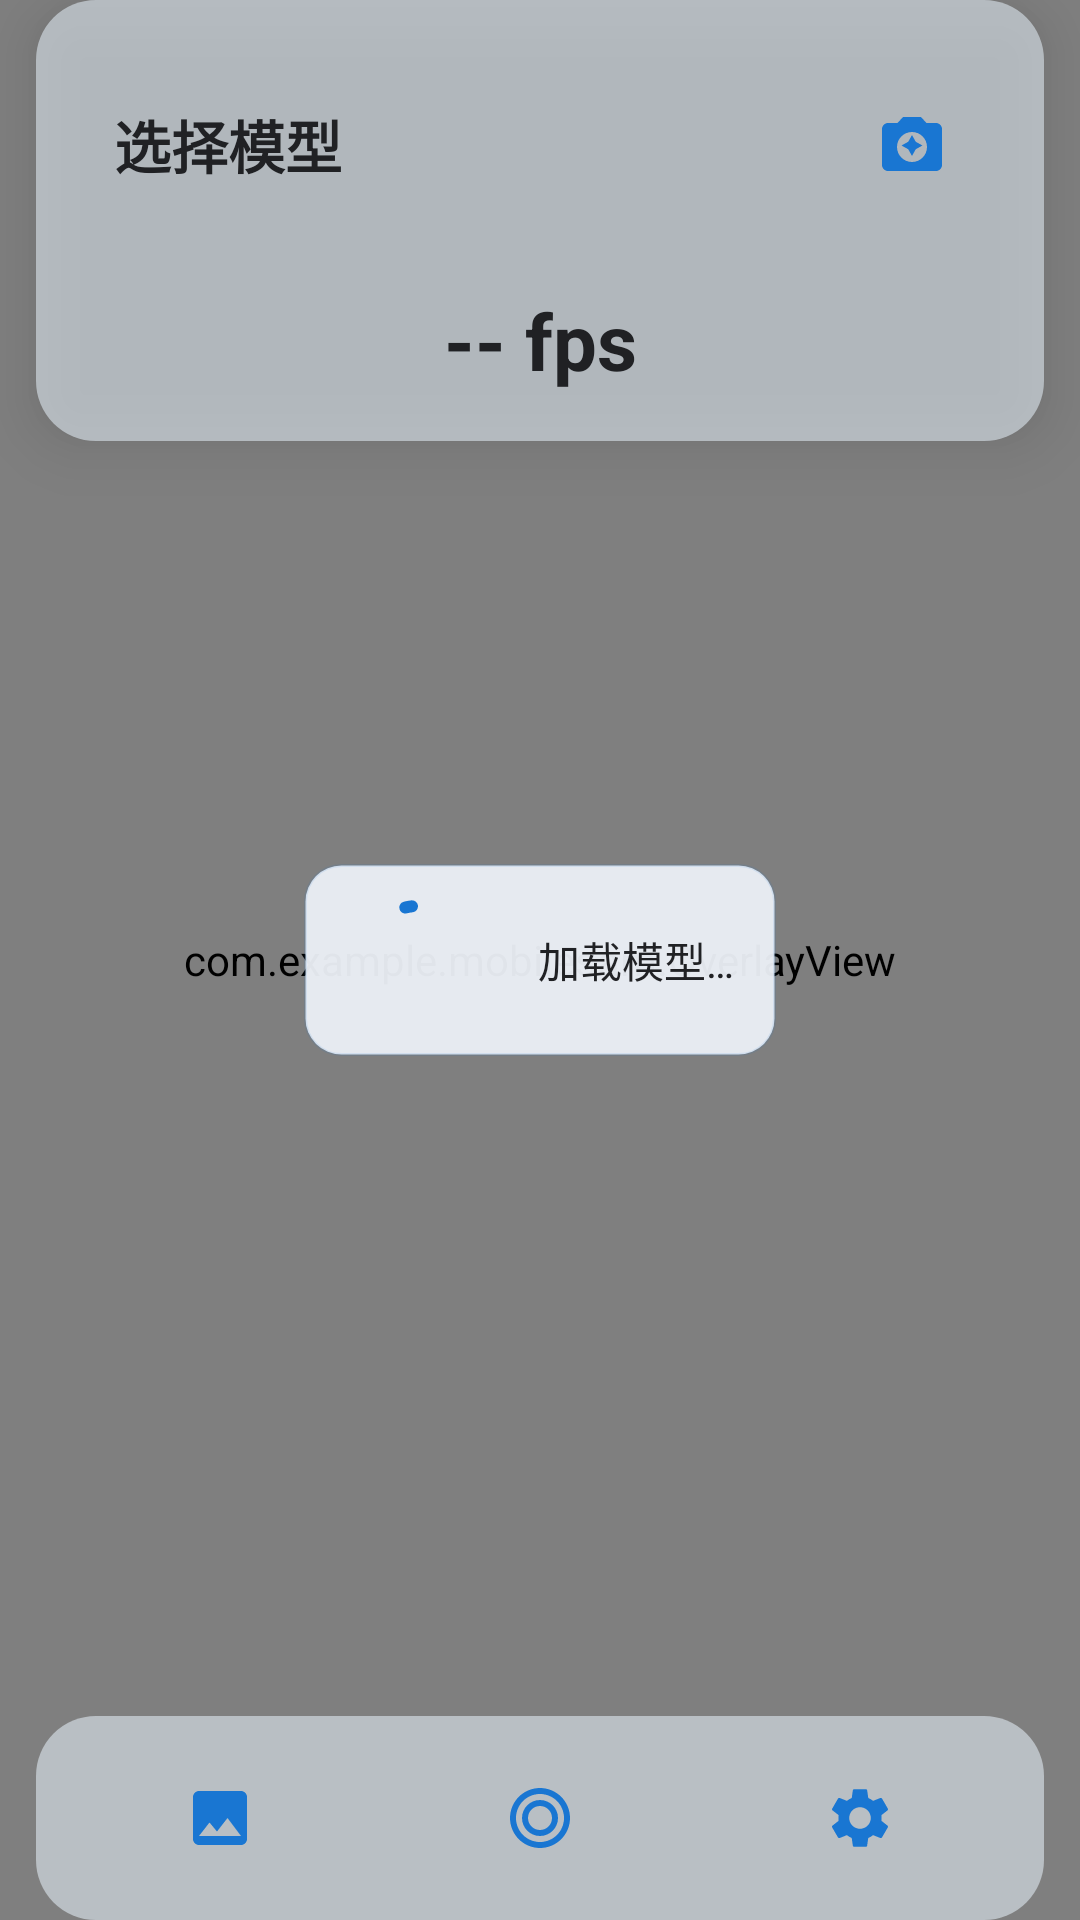

Icons on this 1080×1920 Android screen, each with the point to tap as (x,y):
切换摄像头: (912,144)
相册: (220,1818)
设置: (860,1818)
